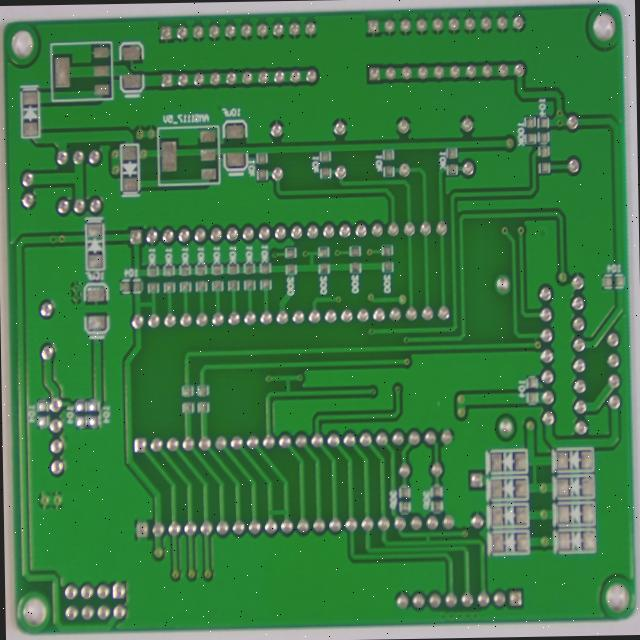short: (293, 477, 322, 499), (333, 176, 352, 202), (146, 233, 173, 250), (310, 324, 326, 352), (465, 513, 479, 526)
